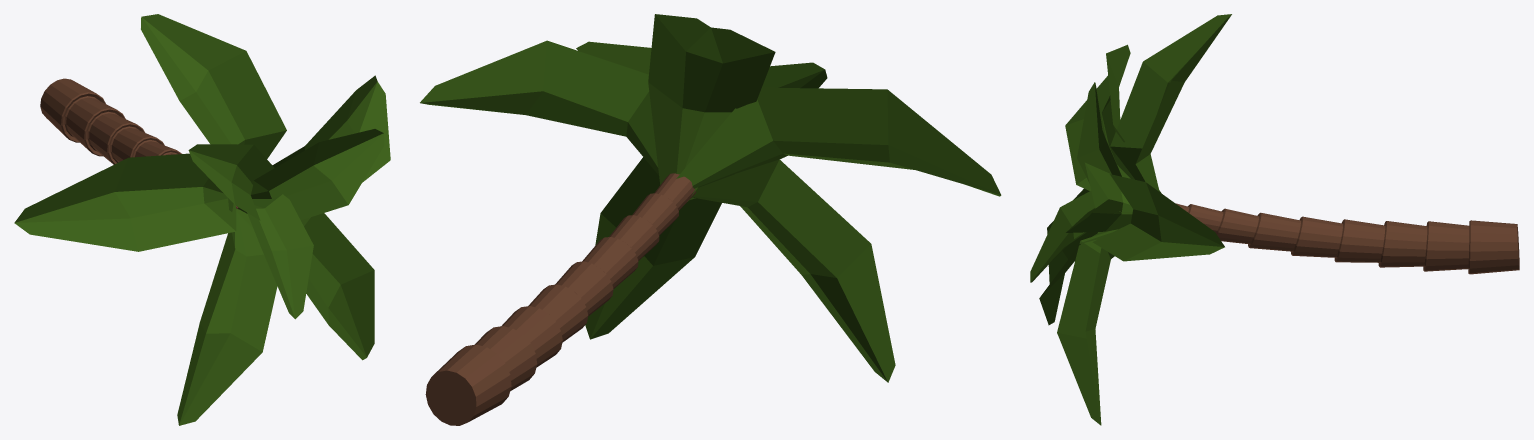
The model's file is palm.glb.
3 views of the same model, side by side, from view 1: azimuth 30°, elevation 25°; view 2: azimuth 150°, elevation 25°; view 3: azimuth 270°, elevation 25° (orthographic). The views are drawn at different scales.
Parts seen in each view (by area): view 1: Cylinder.015; view 2: Cylinder.015; view 3: Cylinder.015.
Boxes of the visible parts, x1,y1,x2,y2 form: Cylinder.015: (14,14,390,425); Cylinder.015: (420,14,1001,425); Cylinder.015: (1030,14,1519,425).
Size of the model in its own units: 1.64 by 1.28 by 1.69.
1 material, 1 textured.
